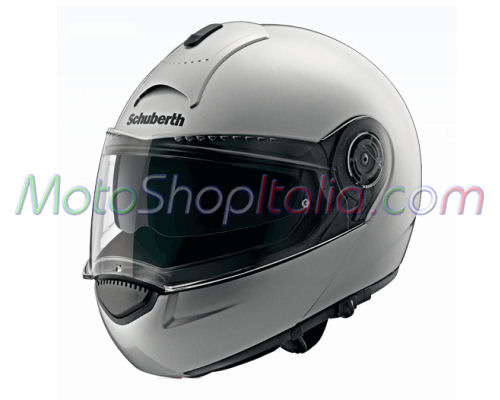helmet: (112, 40, 429, 347)
